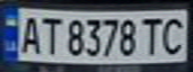3: (81, 16, 103, 57)
7: (100, 16, 121, 57)
8: (118, 16, 142, 57), (63, 16, 84, 56)
A: (15, 12, 45, 55)
C: (157, 14, 190, 56)
T: (136, 15, 163, 57), (36, 14, 63, 56)
